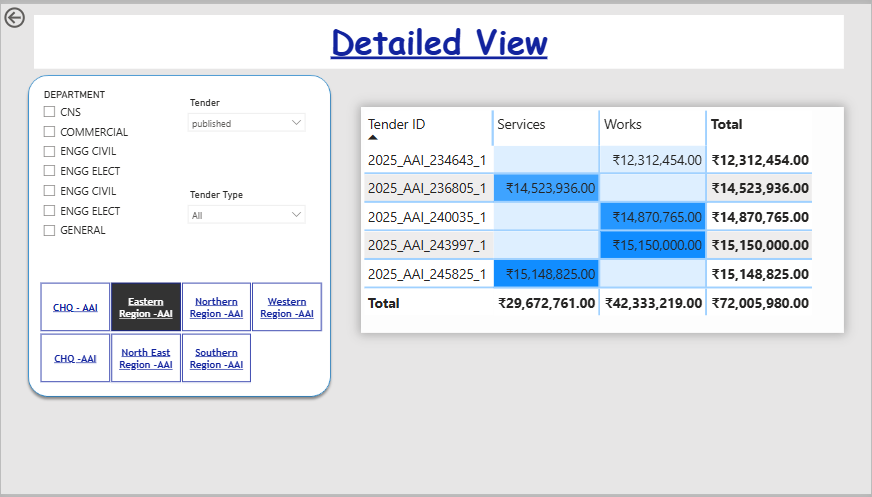

This screenshot's page, from the dashboard's own definition file:
{"tool":"powerbi","page":{"name":"detiled view","canvas":[1280,720],"ordinal":1},"visuals":[{"type":"slicer","fields":{"Values":["Append1.region"]},"box":[32.4,402.9,463.2,160.3],"z":0},{"type":"slicer","fields":{"Values":["Tender.Tender"]},"box":[264.7,132.4,192.6,75],"z":1000},{"type":"slicer","title":"Department","fields":{"Values":["Append1.dept"]},"box":[50,120.6,191.2,239.7],"z":2000},{"type":"pivotTable","fields":{"Rows":["Tender.Tender ID"],"Values":["Sum(Append1.Value Of Tender In Rs.)"],"Columns":["Append1.Tender Category"]},"box":[529.4,151.5,710.3,332.4],"z":3000},{"type":"textbox","box":[48.5,16.2,1191.2,79.4],"z":4000},{"type":"actionButton","box":[0,0,100,40],"z":5000},{"type":"slicer","fields":{"Values":["Append1.Tender Type"]},"box":[264.7,267.6,192.6,69.1],"z":6000}]}

Visuals, with their boxes in screenshot pixels (x1, y1, x2, y2), scaled from the page's 1280x720 canvas onto the 872x497 screenshot:
slicer - Append1.region: [x1=22, y1=278, x2=338, y2=389]
slicer - Tender.Tender: [x1=180, y1=91, x2=312, y2=143]
"Department" slicer: [x1=34, y1=83, x2=164, y2=249]
pivotTable - Tender.Tender ID x Sum(Append1.Value Of Tender In Rs.): [x1=361, y1=105, x2=845, y2=334]
textbox: [x1=33, y1=11, x2=845, y2=66]
actionButton: [x1=0, y1=0, x2=68, y2=28]
slicer - Append1.Tender Type: [x1=180, y1=185, x2=312, y2=232]
